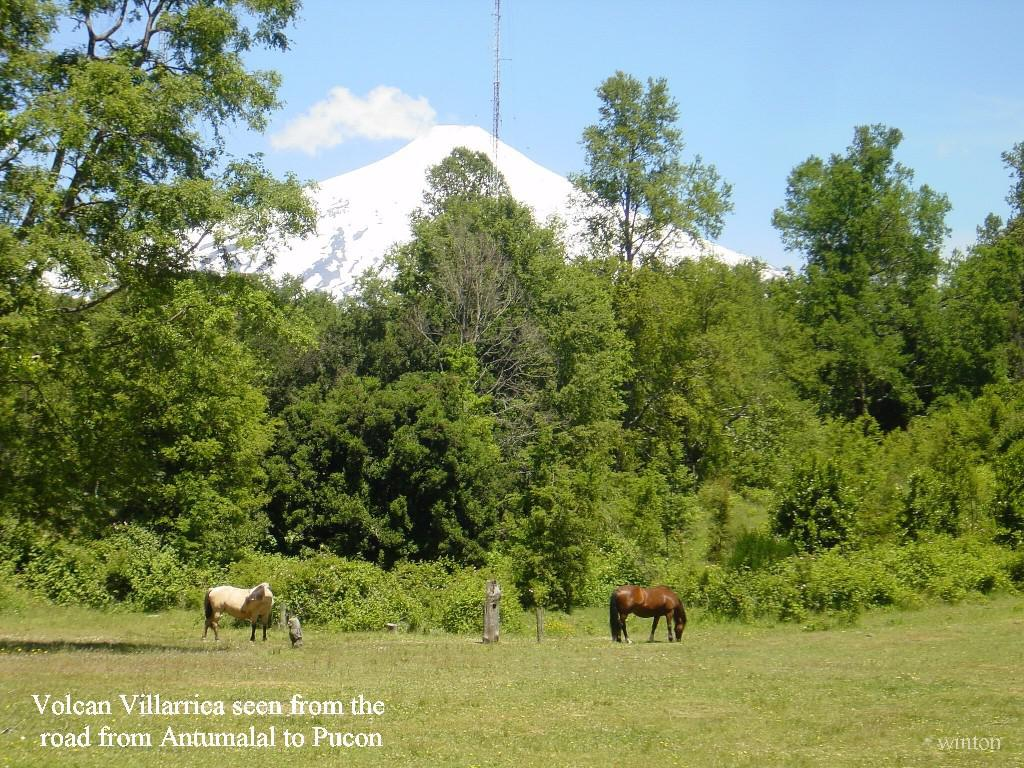horse: (604, 581, 689, 644), (199, 578, 275, 642)
